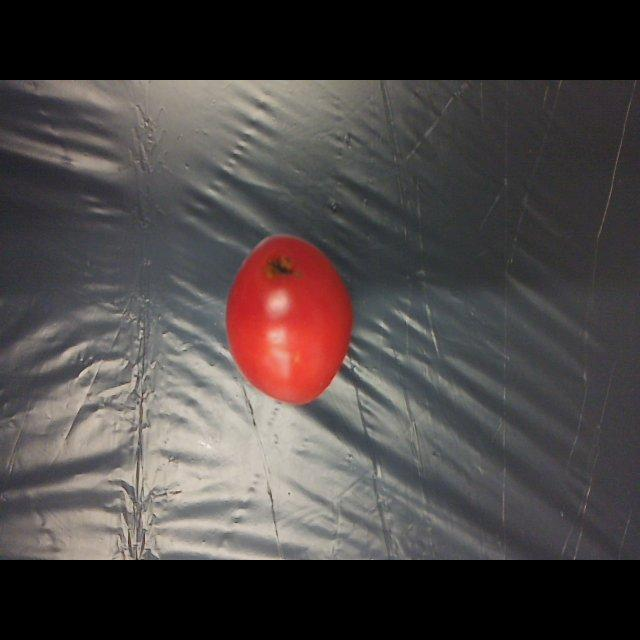tomato: (216, 231, 358, 405)
